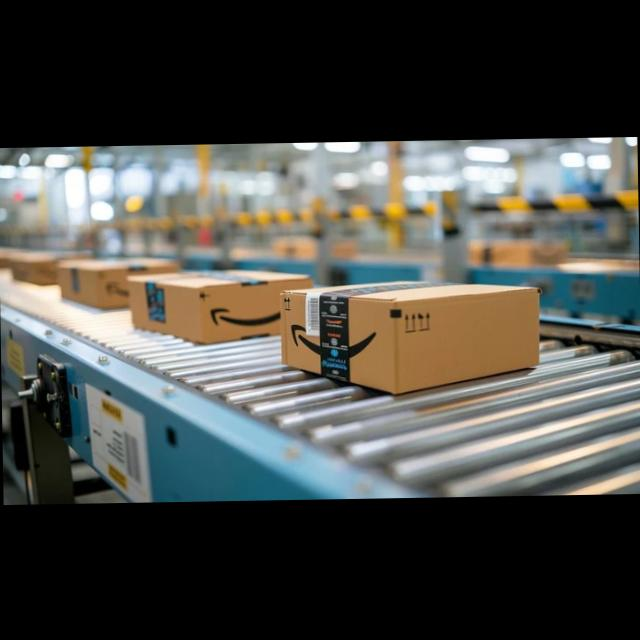box: (276, 277, 541, 392), (128, 266, 310, 344), (57, 254, 178, 310), (10, 249, 78, 283)
